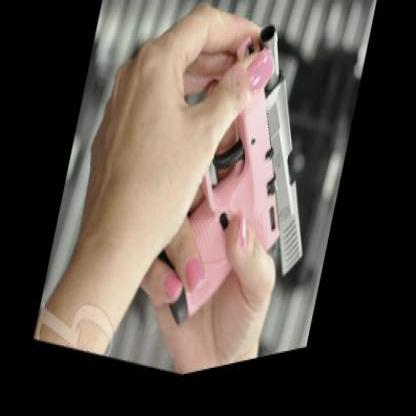pistol: (149, 0, 352, 384)
